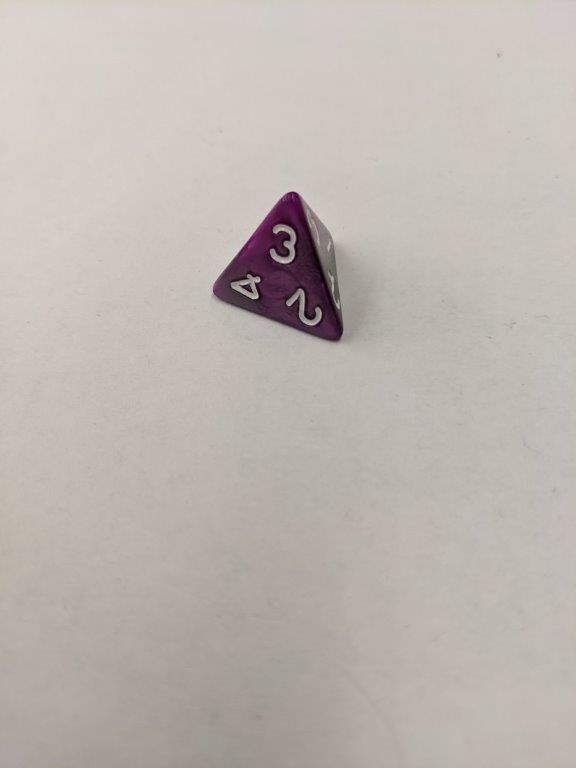d4-3: (208, 187, 352, 350)
